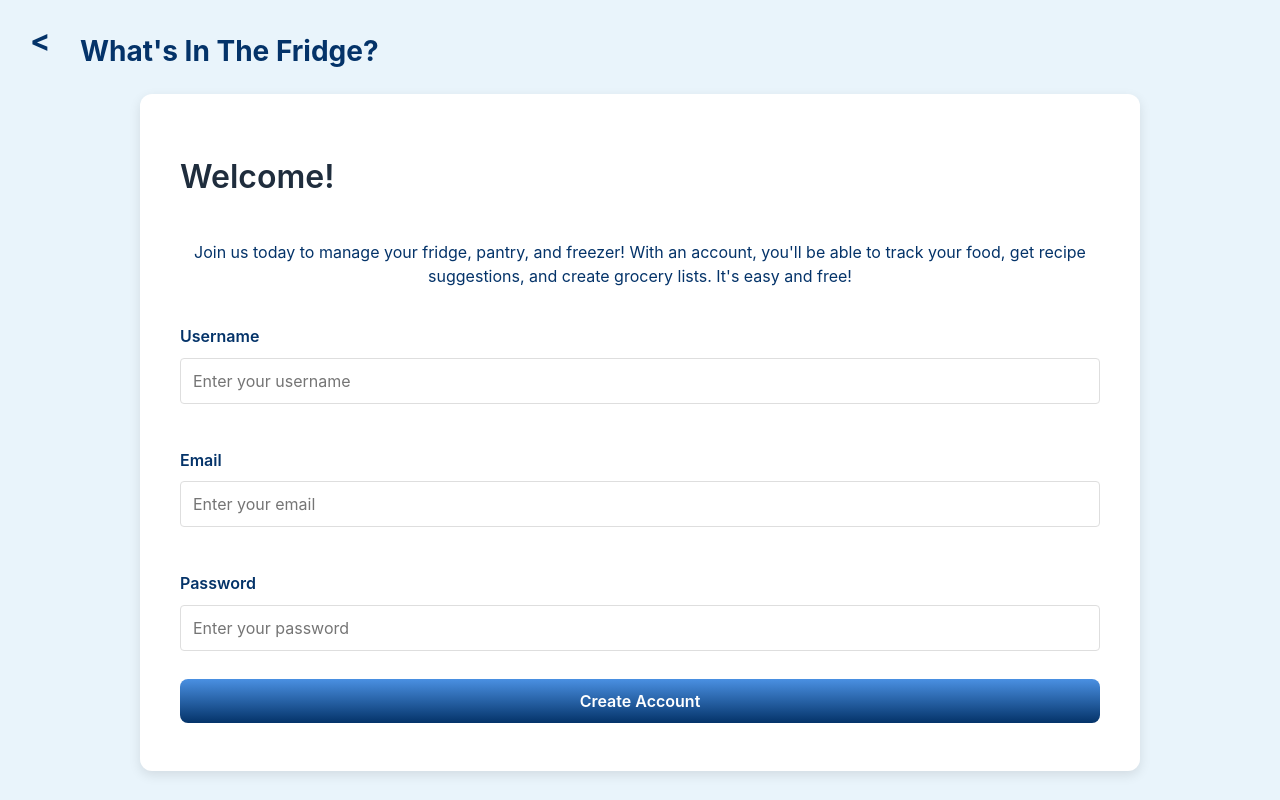
it: Add new user › Unsuccessful Post -- Bad Password › WHEN I enter mostly valid information, but not a long enough password (shorter than 6 characters)
The width and height of the screenshot is (1280, 800).
Type "sdkfjwldsfjlsjdflkjsfawepfasoef2394" into the field with id "username-field" at (640, 381), box [180, 358, 1100, 404]
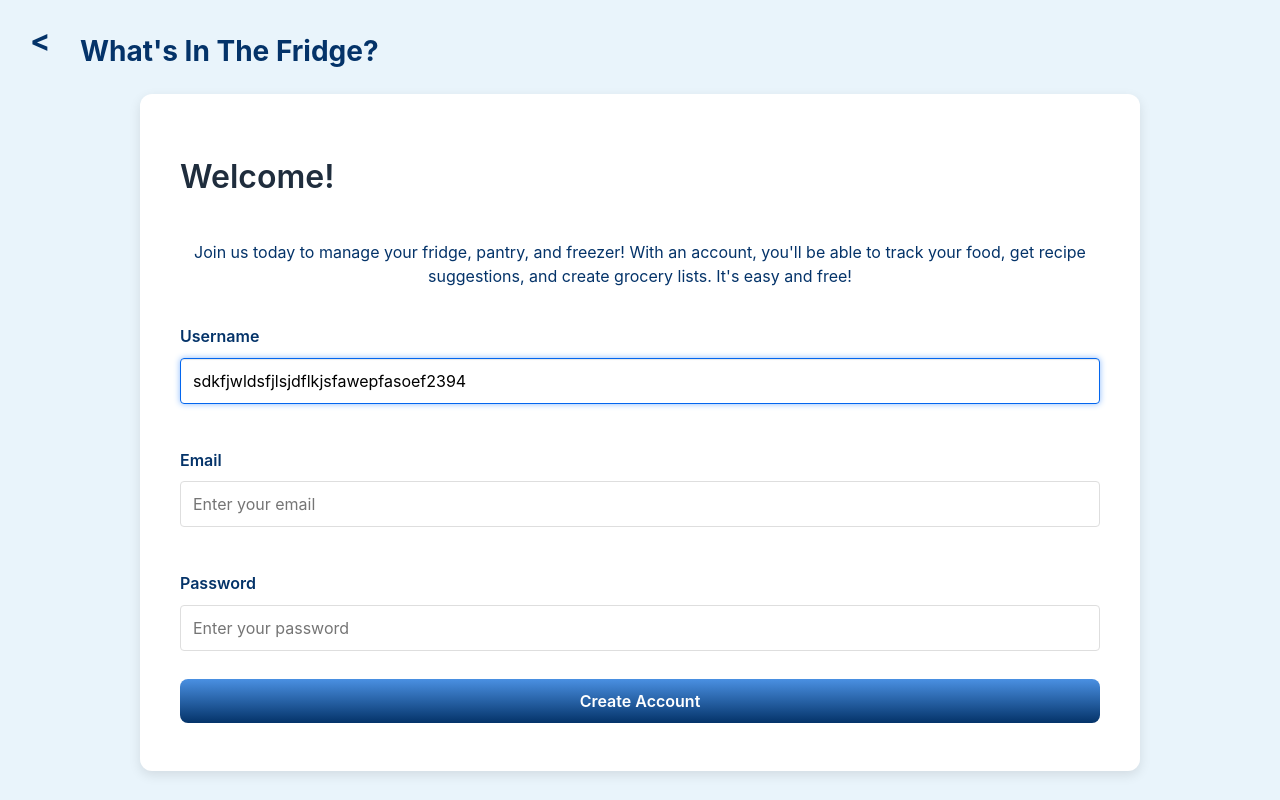
Type "seslkdfjlsdjfljsdlfjsljdfkljl@example.com" into the field with id "email-field" at (640, 504), box [180, 481, 1100, 527]
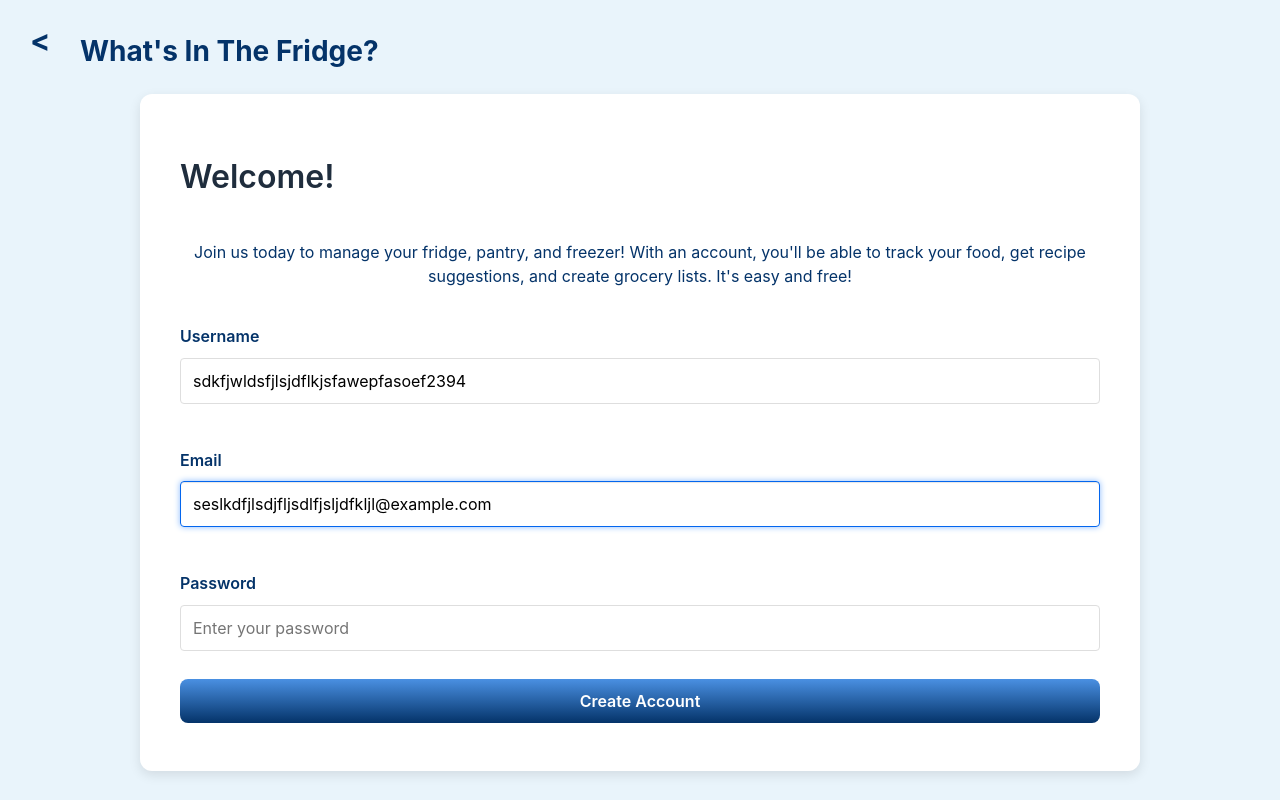
Type "123" into the password field with placeholder "Enter your password" at (640, 628), box [180, 605, 1100, 651]
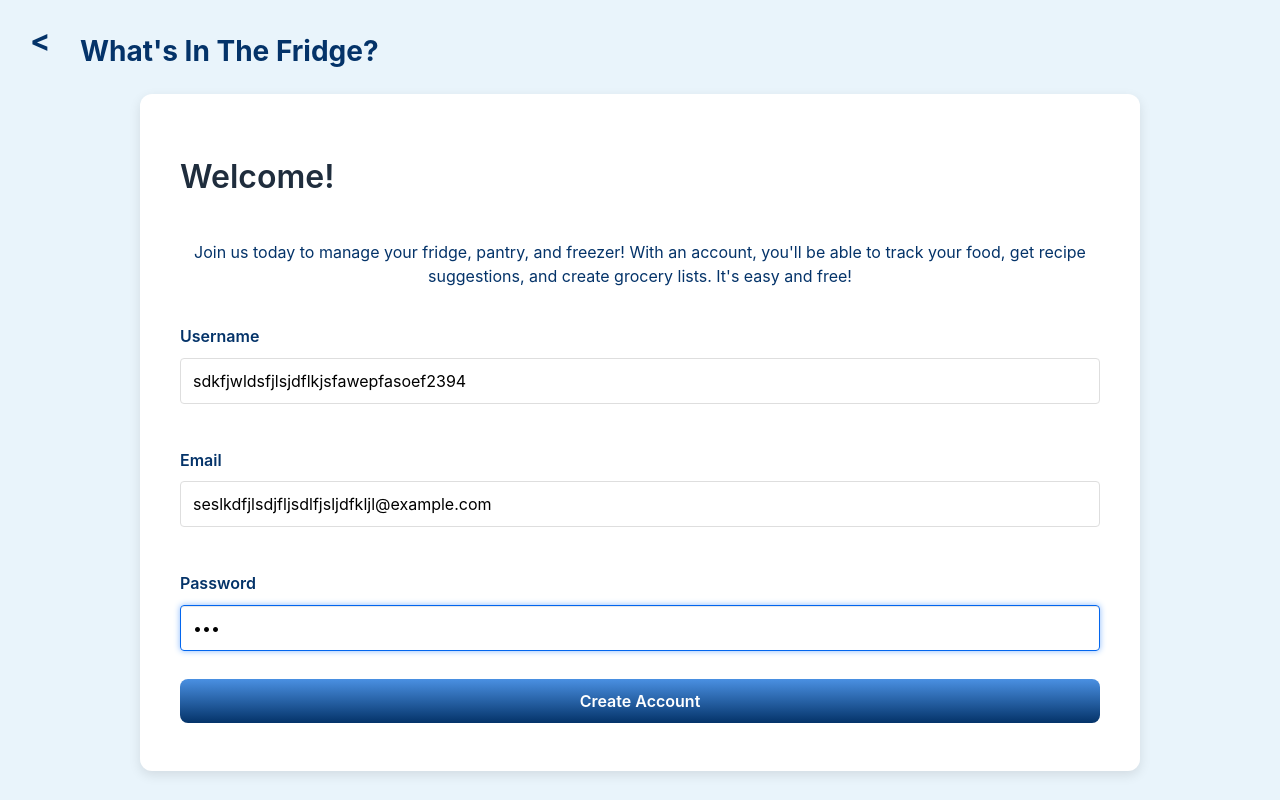
Click the button with id "create-account" at (640, 701), box [180, 679, 1100, 723]
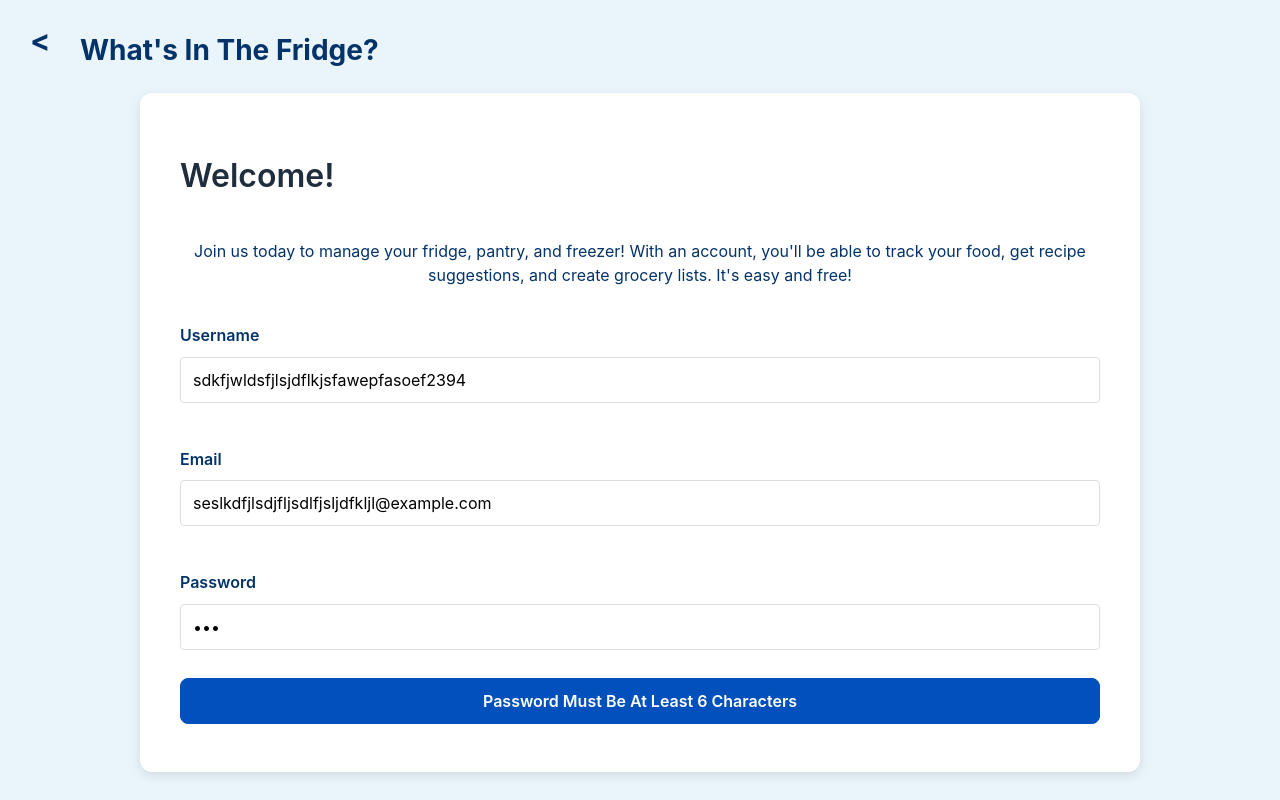
Check: the button with id "create-account" reads "Password Must Be At Least 6 Characters", box [180, 678, 1100, 724]
